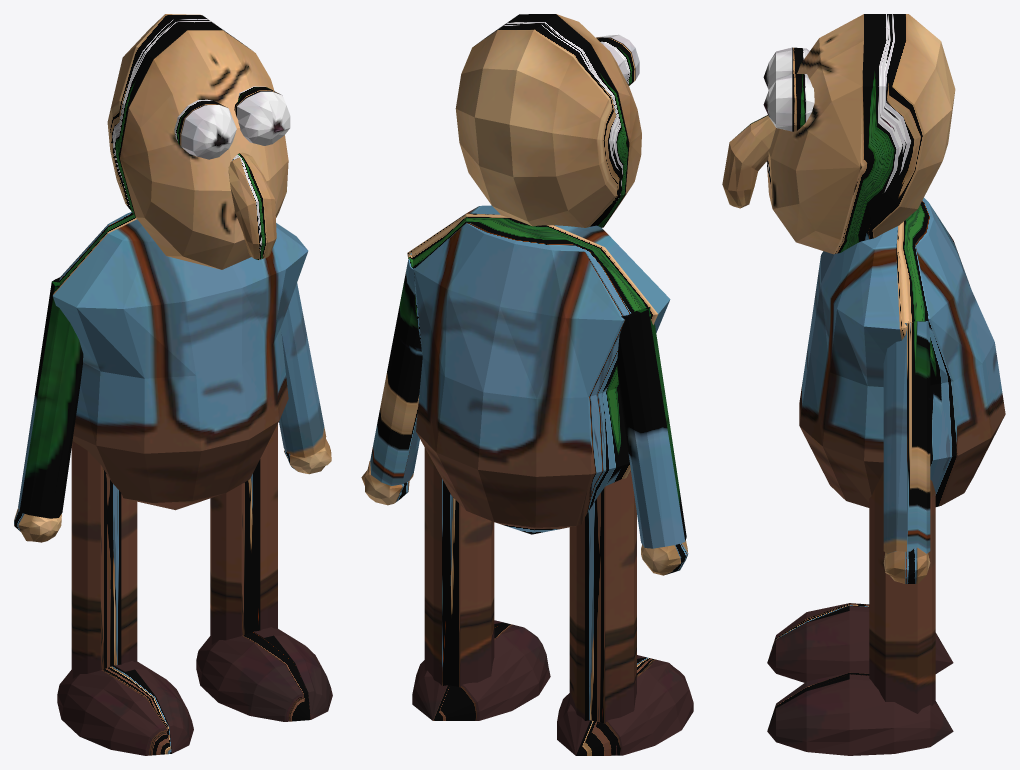
Rendered from AltiMan.glb.
3 views of the same model, side by side, from view 1: azimuth 30°, elevation 25°; view 2: azimuth 150°, elevation 25°; view 3: azimuth 270°, elevation 25° (orthographic). The views are drawn at different scales.
Visible parts, largest first — view 1: AltiMan; view 2: AltiMan; view 3: AltiMan.
Part boxes in pixels (x1=…): AltiMan: x1=14, y1=14, x2=332, y2=755; AltiMan: x1=361, y1=14, x2=693, y2=755; AltiMan: x1=722, y1=14, x2=1005, y2=755.
Bounding box in the file's own units: 152 × 314 × 118.
1 material, 1 textured.
